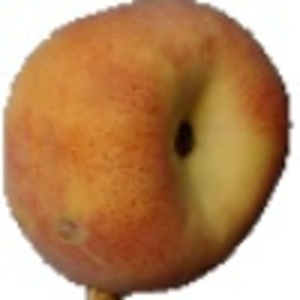pêssego: (1, 1, 293, 300)
